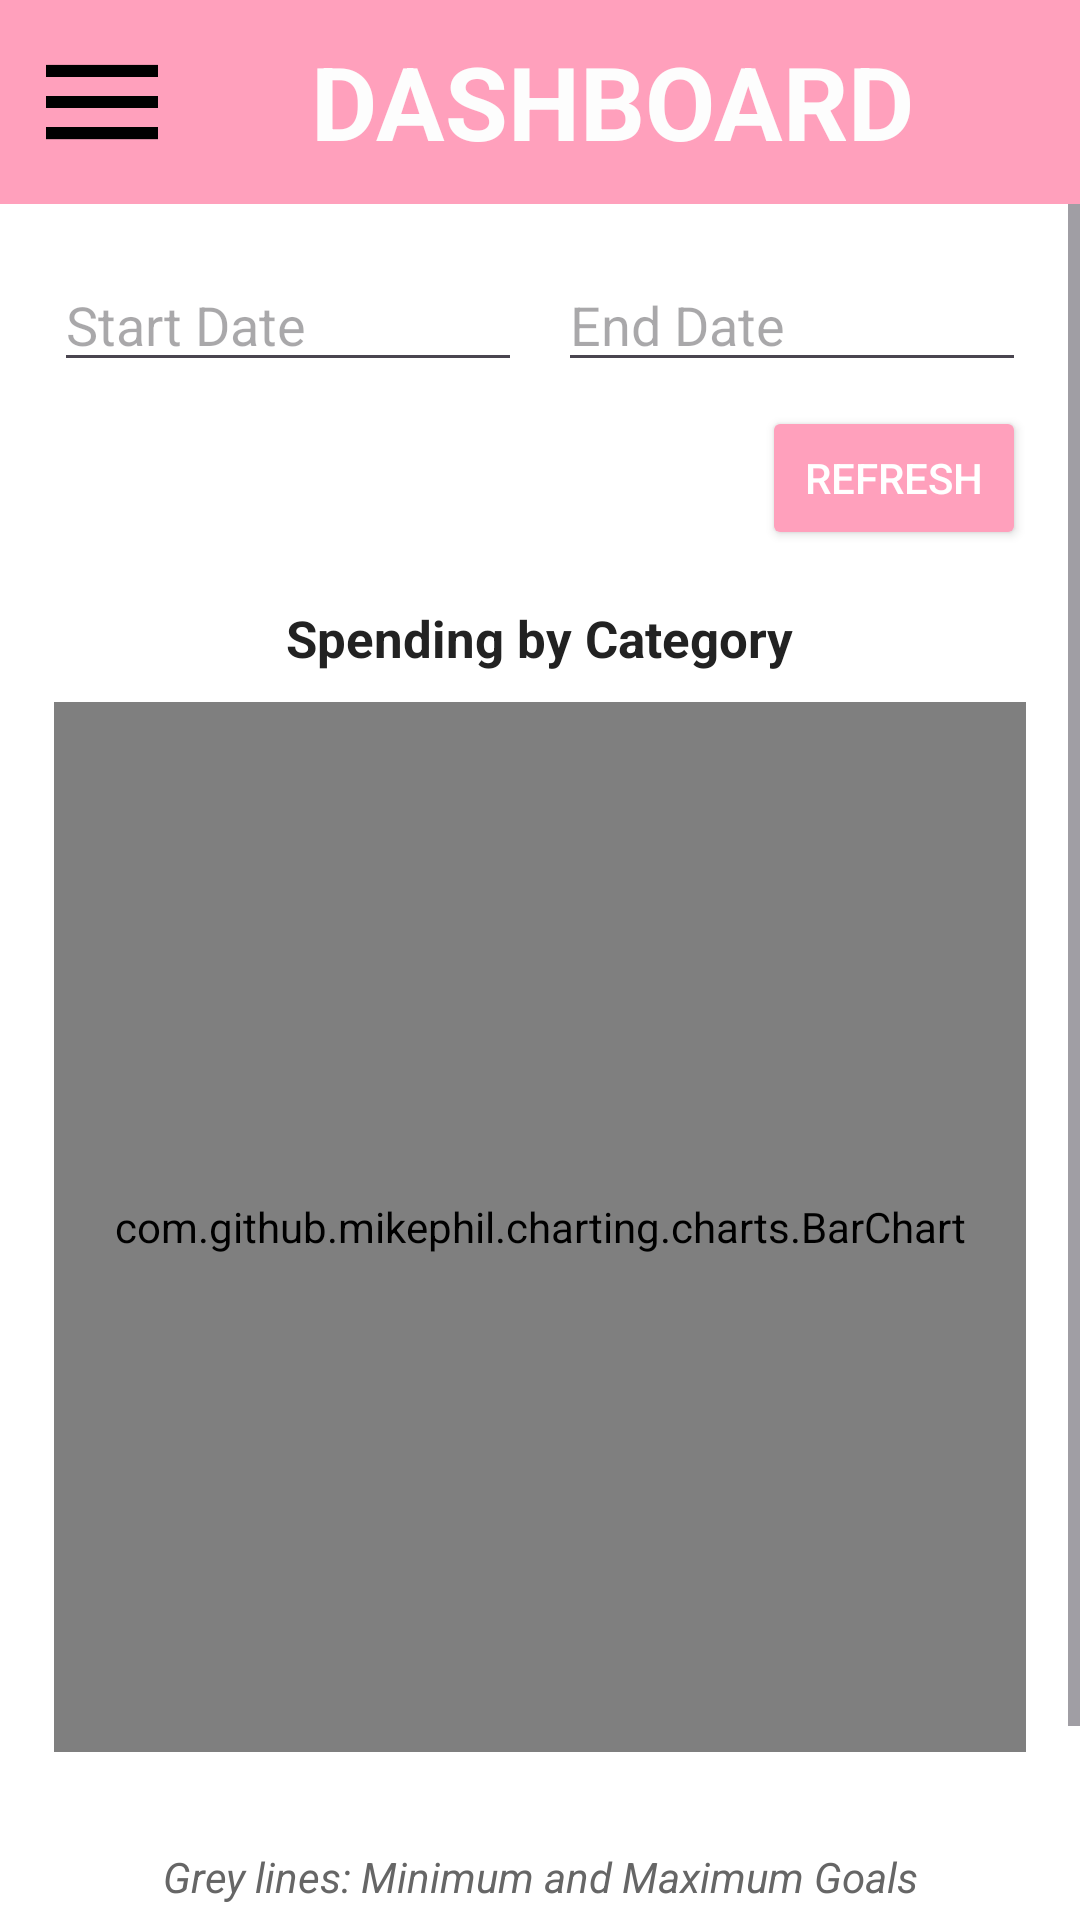

Where to tap for icons on this 1080 x 1920 app screen, as [x,y]:
Menu: [102,102]
